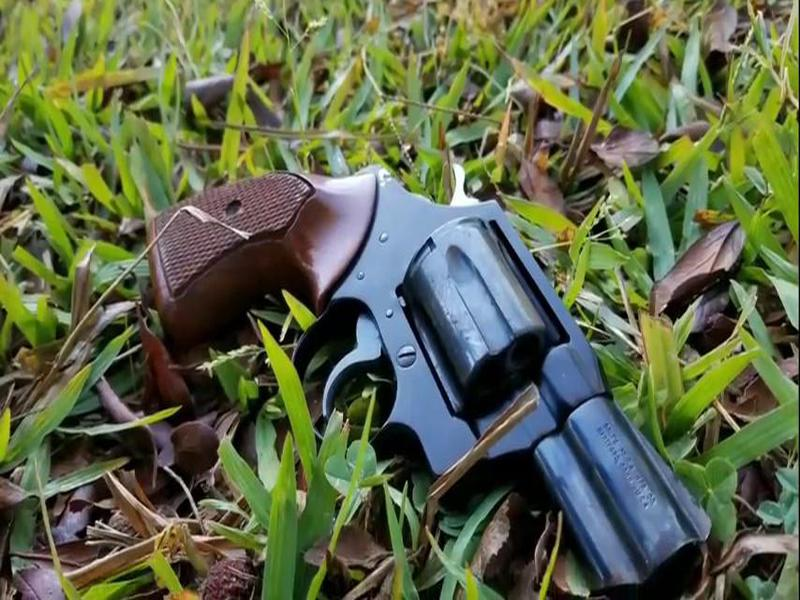Revolver: (129, 128, 736, 590)
